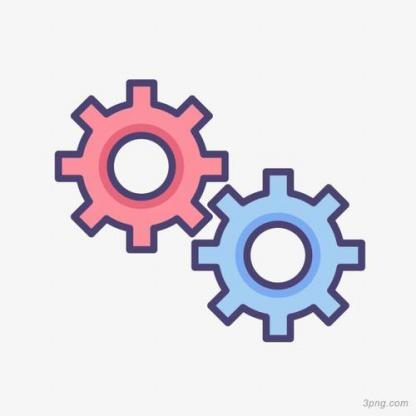FOD: (48, 77, 231, 257)
